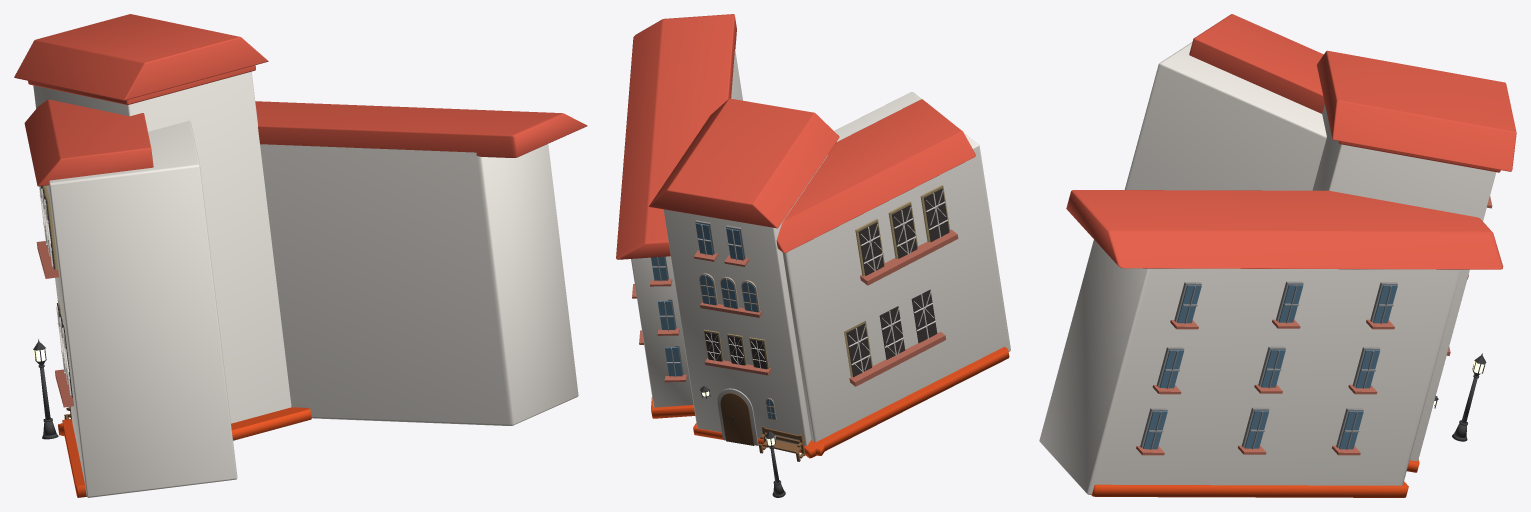
File: FallHouse_4.glb
3 renders of one model, left to right at view 1: azimuth 30°, elevation 25°; view 2: azimuth 150°, elevation 25°; view 3: azimuth 270°, elevation 25°, orthographic. The views are drawn at different scales.
Visible parts, largest first — view 1: Right_Wing_Body.002, Left_Wing_Body.002, Tower_Body.002, Tower_Roof.001, Right_Wing_Roof.001, Left_Wing_Roof.001, Tower_Body.003, Tower_Trim.001, Left_Wing_Body.003; view 2: Left_Wing_Body.002, Tower_Body.002, Right_Wing_Roof.001, Tower_Roof.001, Left_Wing_Roof.001, Right_Wing_Body.002, Left_Wing_Body.003, Door_Wood.001, T1_Sill.005, T1_Sill.004, T1_Glass_2.017, T1_Glass_2.012 (+7 smaller); view 3: Right_Wing_Body.002, Right_Wing_Roof.001, Left_Wing_Body.002, Tower_Roof.001, Tower_Body.002, Left_Wing_Roof.001, Right_Wing_Body.003, Tower_Trim.001, T3_Glass.019, T3_Glass.021, T3_Glass.027, T3_Glass.020 (+5 smaller).
Part boxes in pixels (x1,y1,x2,y2): Right_Wing_Body.002: (260, 144, 578, 425); Left_Wing_Body.002: (46, 120, 237, 497); Tower_Body.002: (33, 71, 291, 423); Tower_Roof.001: (14, 14, 268, 100); Right_Wing_Roof.001: (255, 101, 587, 157); Left_Wing_Roof.001: (24, 99, 153, 186); Tower_Body.003: (58, 407, 311, 440); Tower_Trim.001: (28, 65, 255, 104); Left_Wing_Body.003: (62, 418, 86, 497); Left_Wing_Body.002: (782, 92, 1010, 441); Tower_Body.002: (663, 155, 827, 445); Right_Wing_Roof.001: (616, 14, 736, 259); Tower_Roof.001: (649, 98, 839, 228); Left_Wing_Roof.001: (776, 99, 975, 252); Right_Wing_Body.002: (631, 50, 742, 407); Left_Wing_Body.003: (804, 346, 1009, 458); Door_Wood.001: (720, 393, 754, 445); T1_Sill.005: (860, 229, 958, 285); T1_Sill.004: (849, 332, 946, 386); T1_Glass_2.017: (924, 188, 949, 241); T1_Glass_2.012: (911, 289, 937, 343); Right_Wing_Body.002: (1039, 240, 1460, 494); Right_Wing_Roof.001: (1066, 190, 1503, 269); Left_Wing_Body.002: (1124, 42, 1326, 190); Tower_Roof.001: (1317, 50, 1516, 171); Tower_Body.002: (1312, 104, 1496, 461); Left_Wing_Roof.001: (1189, 14, 1324, 113); Right_Wing_Body.003: (1091, 481, 1408, 497); Tower_Trim.001: (1338, 141, 1500, 172); T3_Glass.019: (1339, 411, 1363, 449); T3_Glass.021: (1373, 285, 1397, 323); T3_Glass.027: (1177, 285, 1201, 323); T3_Glass.020: (1355, 350, 1379, 388).
Size of the model in its own units: 240 by 197 by 213.
